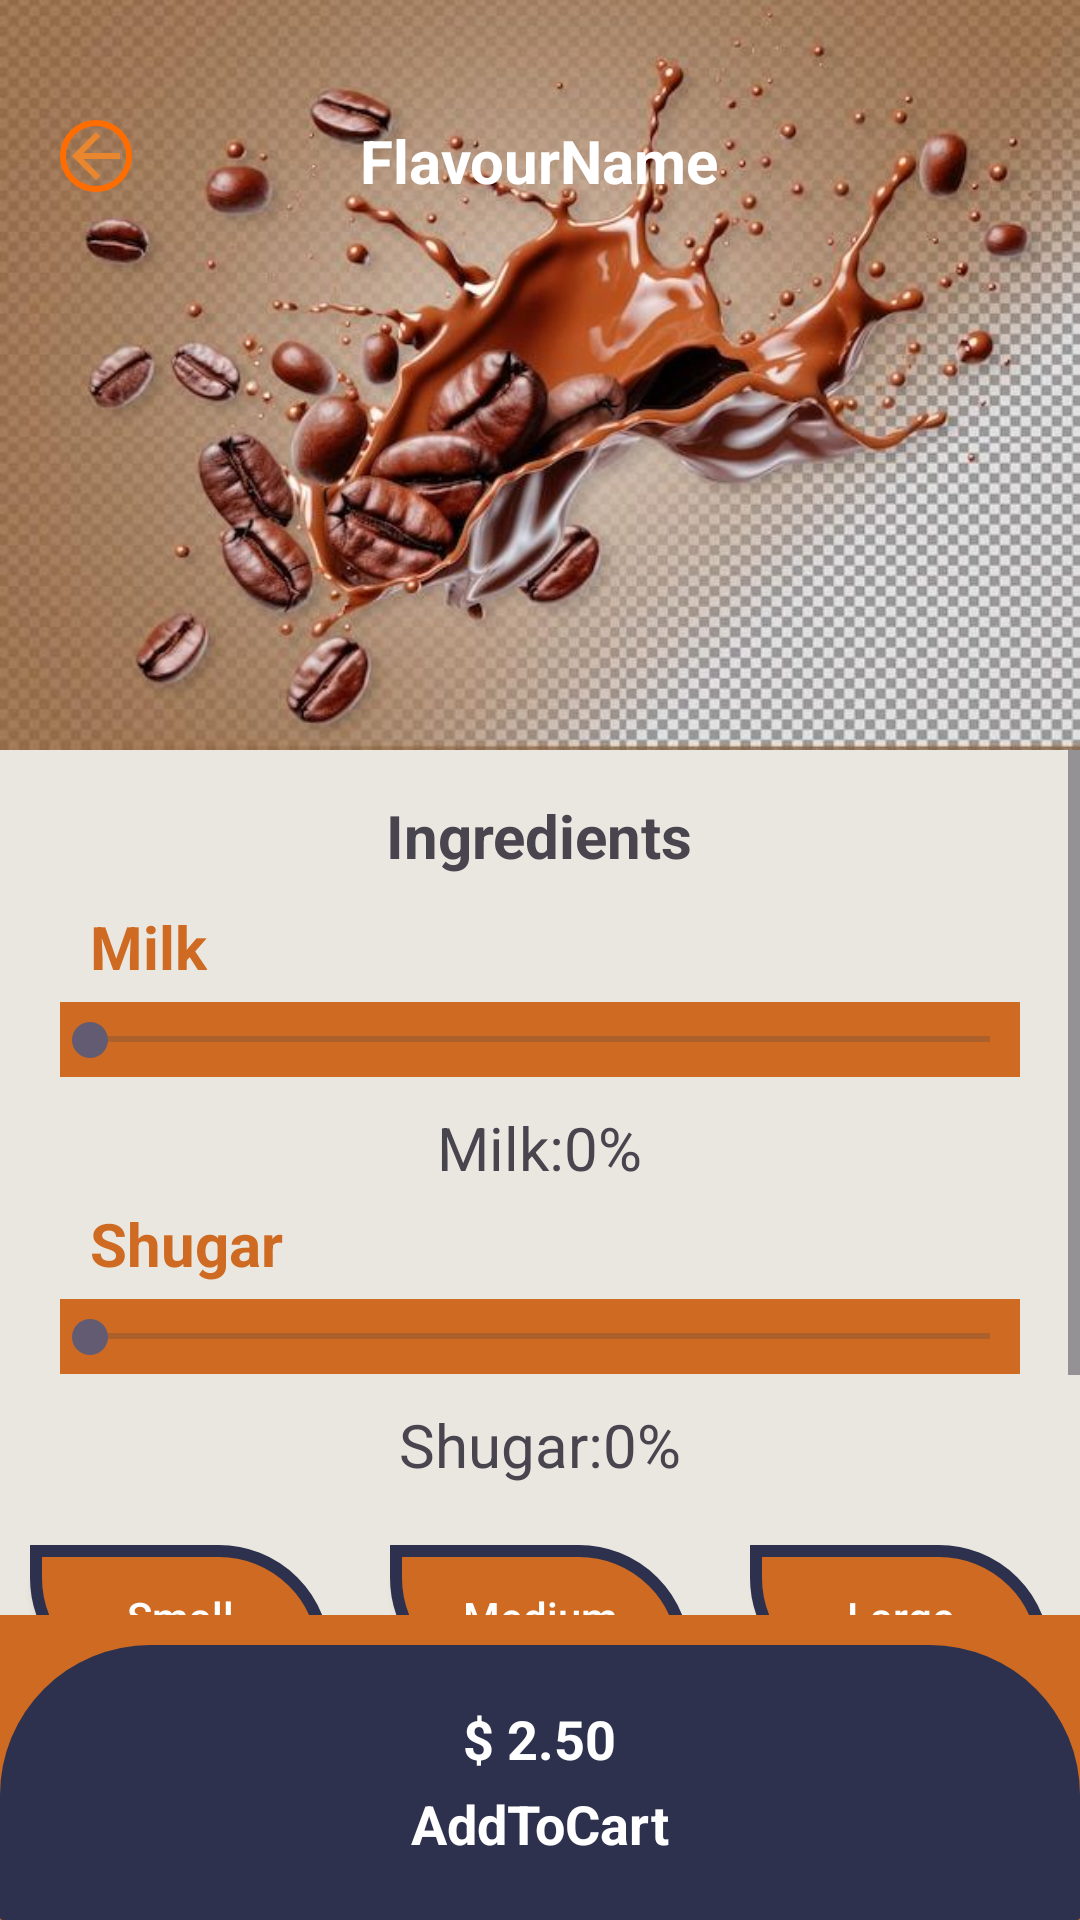

Where icons sit on this 1080 x 1920 app screen, as rect(x1, y1, x2, y2):
arrow back: rect(60, 120, 132, 192)
